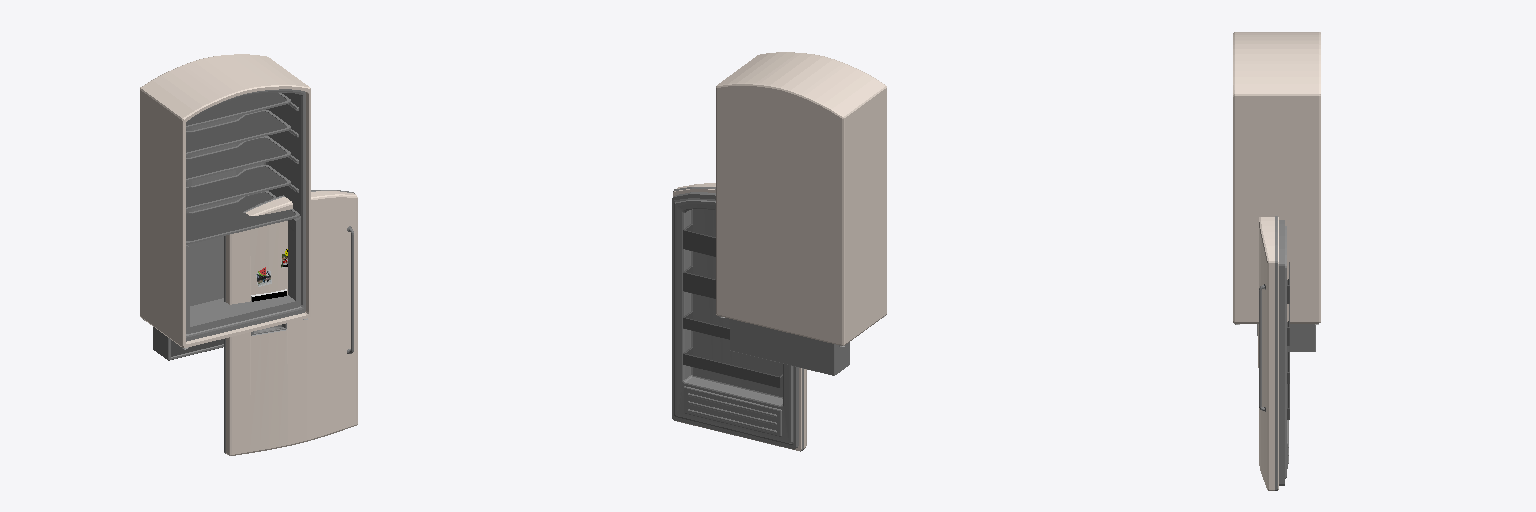
The picture shows the model from 3 angles: view 1: azimuth 30°, elevation 25°; view 2: azimuth 150°, elevation 25°; view 3: azimuth 270°, elevation 25°; orthographic projection.
Parts seen in each view (by area): view 1: FridgeBodyMesh_0, Mesh_1; view 2: FridgeBodyMesh_0, Mesh_1, fridge_drawer2_30_3, fridge_drawer1_30_2; view 3: FridgeBodyMesh_0, Mesh_1.
Boxes of the visible parts, x1=… form: FridgeBodyMesh_0: x1=140, y1=54, x2=310, y2=349; Mesh_1: x1=224, y1=190, x2=357, y2=455; FridgeBodyMesh_0: x1=716, y1=52, x2=886, y2=346; Mesh_1: x1=672, y1=183, x2=806, y2=451; fridge_drawer2_30_3: x1=730, y1=319, x2=849, y2=374; fridge_drawer1_30_2: x1=730, y1=326, x2=841, y2=375; FridgeBodyMesh_0: x1=1233, y1=32, x2=1320, y2=324; Mesh_1: x1=1257, y1=216, x2=1289, y2=490.
Bounding box in the file's own units: 1.82 × 3.44 × 0.7614.
7 materials, 2 textured.